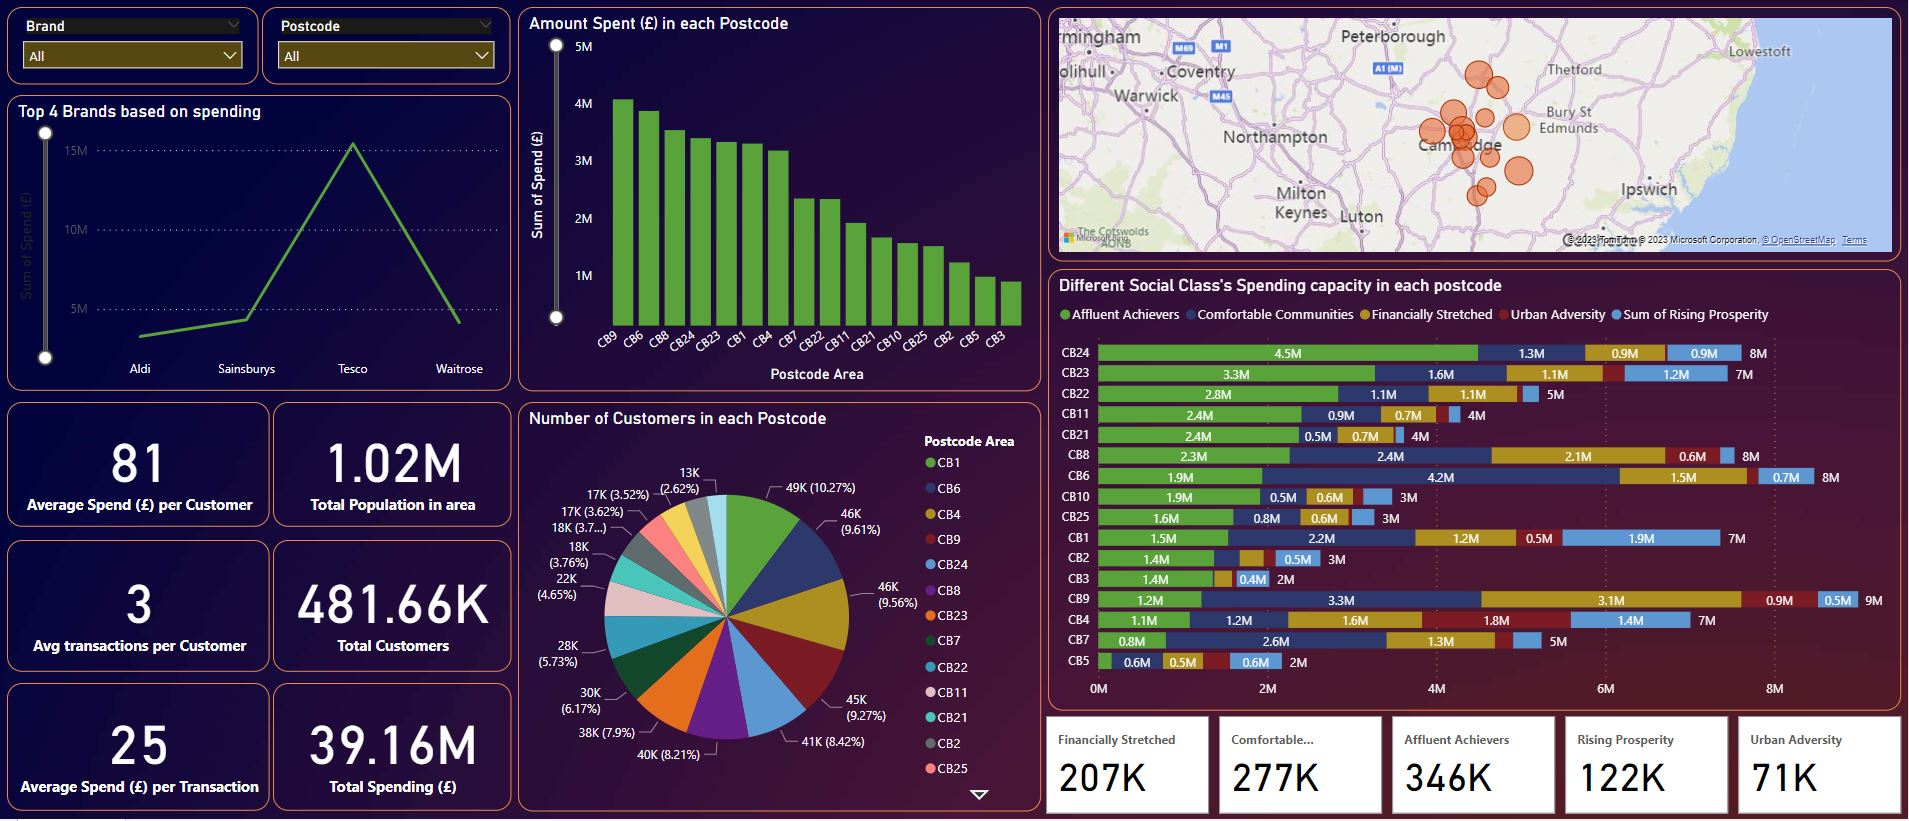

What the dashboard file says about the page in this screenshot:
{"tool":"powerbi","page":{"name":"Dashboard 1","canvas":[1900,815],"ordinal":0},"visuals":[{"type":"pieChart","title":"Number of Customers in each Postcode","fields":{"Category":["Card Spend KPI YOY by Brand.Postcode Area"],"Y":["Sum(Card Spend KPI YOY by Brand.Customers)"]},"box":[517.8,400.5,519.8,406.5],"z":0},{"type":"columnChart","title":"Amount Spent (£) in each Postcode","fields":{"Category":["Card Spend KPI YOY by Brand.Postcode Area"],"Y":["Sum(Card Spend KPI YOY by Brand.Spend (£))"]},"box":[517.8,8,519.8,381.7],"z":1000},{"type":"card","fields":{"Values":["Sum(Card Spend KPI YOY by Brand.Customers)"]},"box":[274.3,537.7,236.5,131.2],"z":2000},{"type":"cardVisual","fields":{"Data":["Sum(CT Demographics by Postal Area.Financially Stretched)","Sum(CT Demographics by Postal Area.Comfortable Communities)","Sum(CT Demographics by Postal Area.Affluent Achievers)","Sum(CT Demographics by Postal Area.Rising Prosperity)","Sum(CT Demographics by Postal Area.Urban Adversity)"]},"box":[1037.6,707.7,862.7,107.3],"z":3000},{"type":"card","fields":{"Values":["Sum(Card Spend KPI YOY by Brand.Spend (£))"]},"box":[274.3,679.8,236.5,127.2],"z":4000},{"type":"slicer","fields":{"Values":["Card Spend KPI YOY by Brand.Brand Name"]},"box":[9.9,8,250.5,76.5],"z":5000},{"type":"slicer","fields":{"Values":["Card Spend KPI YOY by Brand.Postcode Area"]},"box":[263.4,8,247.5,76.5],"z":6000},{"type":"card","fields":{"Values":["Card Spend KPI YOY by Brand.Average Spend (£) per Customers"]},"box":[9.9,400.5,261.4,124.2],"z":7000},{"type":"card","fields":{"Values":["Card Spend KPI YOY by Brand.Average Spend (£) per Transaction"]},"box":[9.9,679.8,261.4,127.2],"z":8000},{"type":"card","fields":{"Values":["CT Demographics by Postal Area.Population Living in the area"]},"box":[274.3,400.5,236.5,124.2],"z":9000},{"type":"card","fields":{"Values":["Card Spend KPI YOY by Brand.Avg transactions per Customer"]},"box":[9.9,537.7,261.4,131.2],"z":10000},{"type":"barChart","title":"Different Social Class''s Spending capacity in each postcode","fields":{"Y":["Sum(Spend Demographics by Postcode.Affluent Achievers)","Sum(Spend Demographics by Postcode.Comfortable Communities)","Sum(Spend Demographics by Postcode.Financially Stretched)","Sum(Spend Demographics by Postcode.Urban Adversity)","Sum(Spend Demographics by Postcode.Rising Prosperity)"],"Category":["Spend Demographics by Postcode.Postal Area"]},"box":[1044.6,268.4,847.8,439.3],"z":11000},{"type":"lineChart","title":"Top 4 Brands based on spending","fields":{"Category":["Card Spend KPI YOY by Brand.Brand Name","Card Spend KPI YOY by Brand.Postcode Area"],"Y":["Sum(Card Spend KPI YOY by Brand.Spend (£))"]},"box":[9.9,95.4,500.9,294.2],"z":12000},{"type":"map","fields":{"Category":["Card Spend KPI YOY by Brand.Postcode Area"]},"box":[1045,8,848,260],"z":13000}]}

Visuals, with their boxes in screenshot pixels (x1, y1, x2, y2), scaled from the page's 1900x815 canvas onto the 1909x821 screenshot:
"Number of Customers in each Postcode" pieChart: [520, 403, 1043, 813]
"Amount Spent (£) in each Postcode" columnChart: [520, 8, 1043, 393]
card - Sum(Card Spend KPI YOY by Brand.Customers): [276, 542, 513, 674]
cardVisual - Sum(CT Demographics by Postal Area.Financially Stretched) x Sum(CT Demographics by Postal Area.Comfortable Communities): [1043, 713, 1908, 820]
card - Sum(Card Spend KPI YOY by Brand.Spend (£)): [276, 685, 513, 813]
slicer - Card Spend KPI YOY by Brand.Brand Name: [10, 8, 262, 85]
slicer - Card Spend KPI YOY by Brand.Postcode Area: [265, 8, 513, 85]
card - Card Spend KPI YOY by Brand.Average Spend (£) per Customers: [10, 403, 273, 529]
card - Card Spend KPI YOY by Brand.Average Spend (£) per Transaction: [10, 685, 273, 813]
card - CT Demographics by Postal Area.Population Living in the area: [276, 403, 513, 529]
card - Card Spend KPI YOY by Brand.Avg transactions per Customer: [10, 542, 273, 674]
"Different Social Class''s Spending capacity in each postcode" barChart: [1050, 270, 1901, 713]
"Top 4 Brands based on spending" lineChart: [10, 96, 513, 392]
map - Card Spend KPI YOY by Brand.Postcode Area: [1050, 8, 1902, 270]
